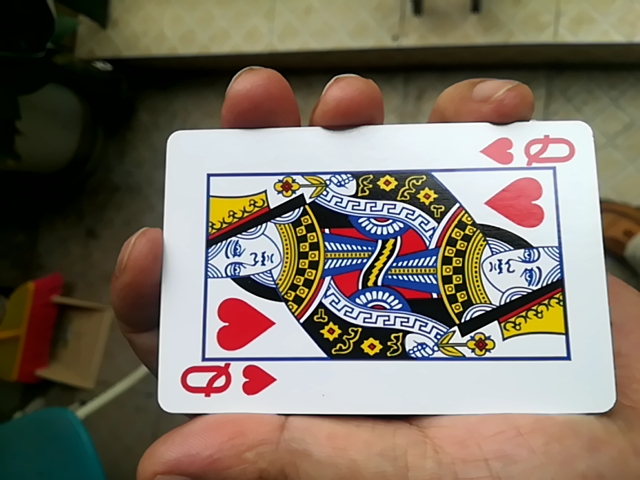hx q: (144, 116, 615, 422)
